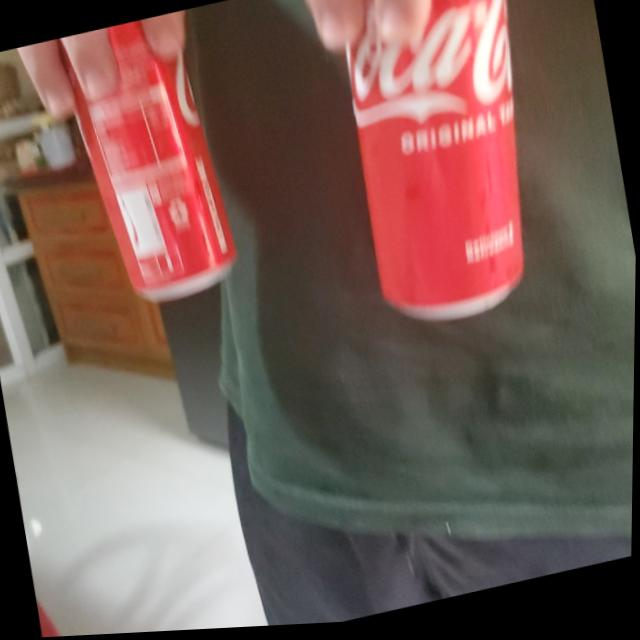coke: (317, 0, 558, 335), (52, 9, 242, 321)
